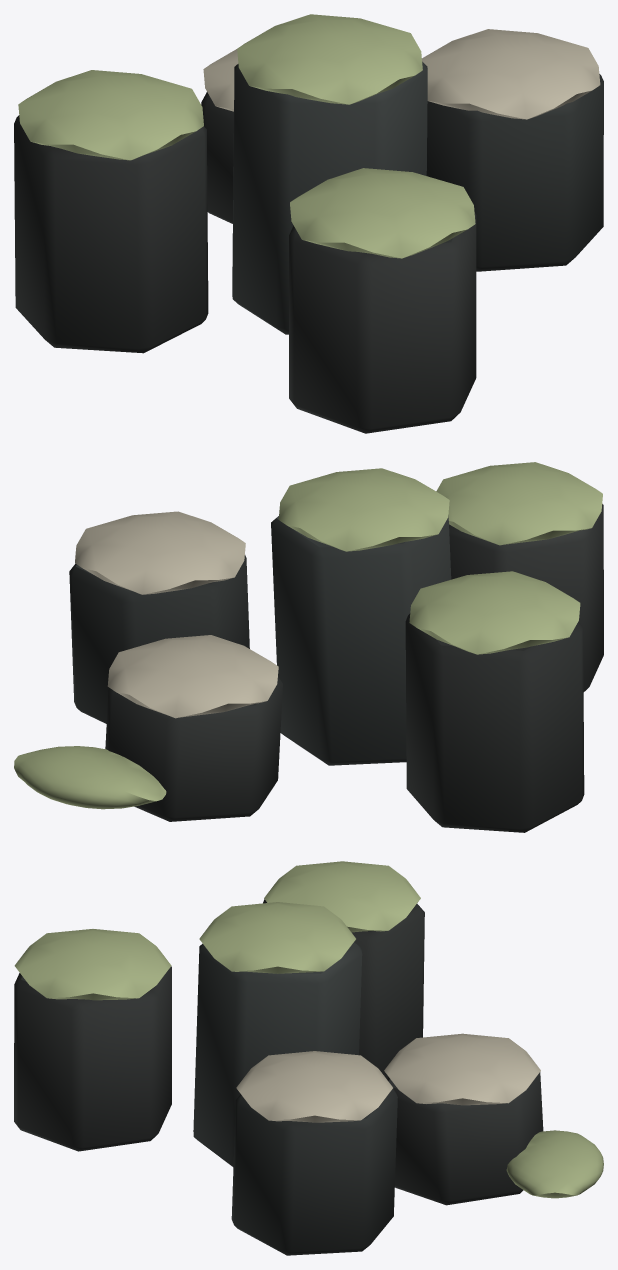
Rendered from column_stubs_a.glb.
3 renders of one model, top to bottom at view 1: azimuth 30°, elevation 25°; view 2: azimuth 150°, elevation 25°; view 3: azimuth 270°, elevation 25°, orthographic. The views are drawn at different scales.
Parts seen in each view (by area): view 1: Surface; view 2: Surface; view 3: Surface.
Boxes of the visible parts, left/top/right/bottom form: Surface: left=14, top=14, right=603, bottom=433; Surface: left=14, top=462, right=603, bottom=832; Surface: left=14, top=861, right=603, bottom=1255.
Size of the model in its own units: 2.86 by 1.36 by 3.19.
